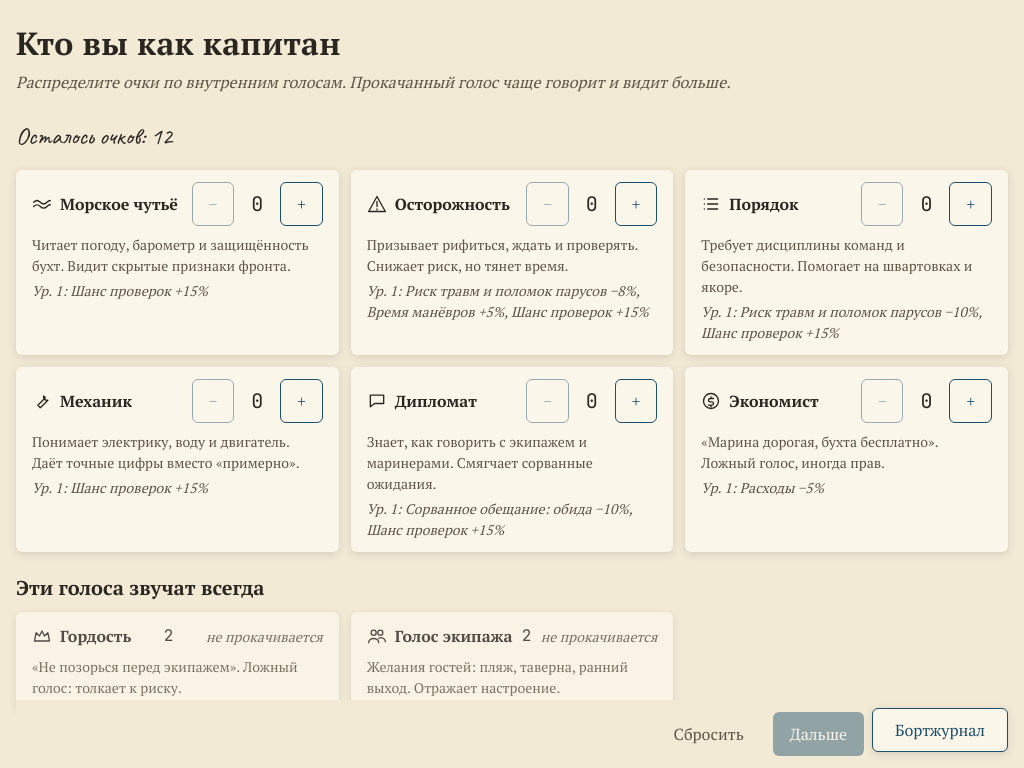
Scenario: CaptainScreen › lists the perks of the allocated level and hints at the next one
Click the button "+" in the row of "Механик": (301, 401) [280, 379, 323, 423]
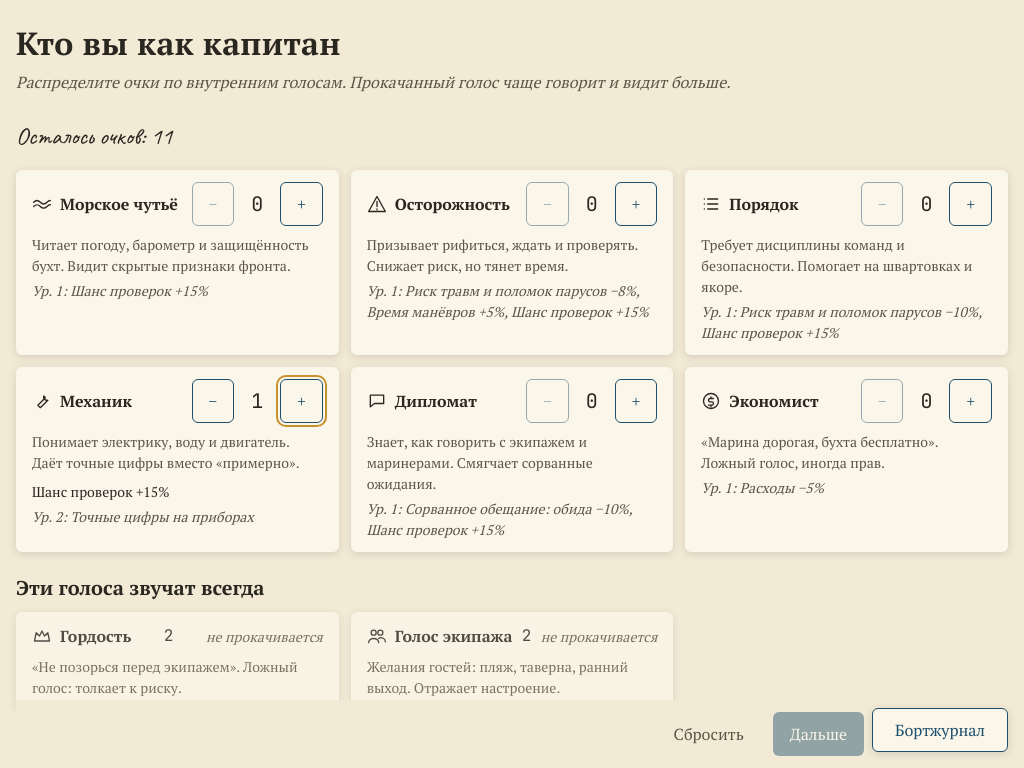
Now the text "Ур. 2: Точные цифры на приборах" is shown, box [32, 507, 254, 526]
Click the button "+" in the row of "Механик": (301, 401) [280, 379, 323, 423]
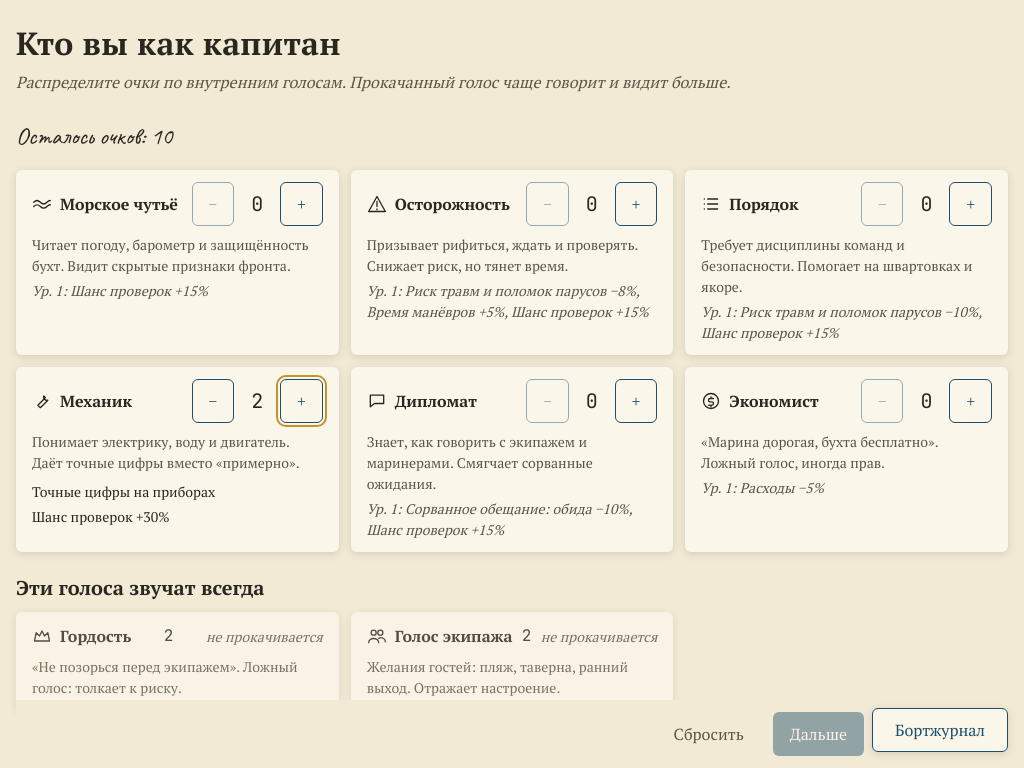
Now the list item "Точные цифры на приборах" is shown, box [32, 482, 215, 501]
Now the text "Ур. 2: Точные цифры" is gone
